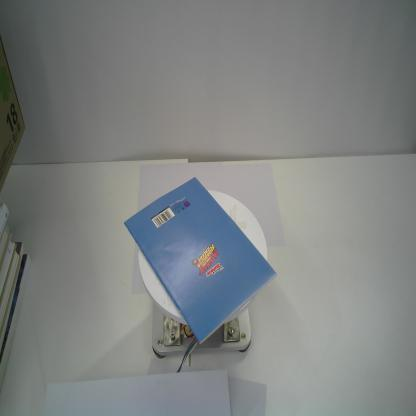Stationery: (124, 177, 279, 345)
